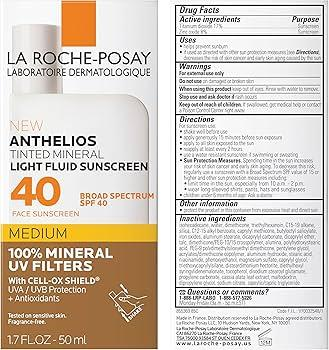ingredients: (175, 213, 328, 288)
